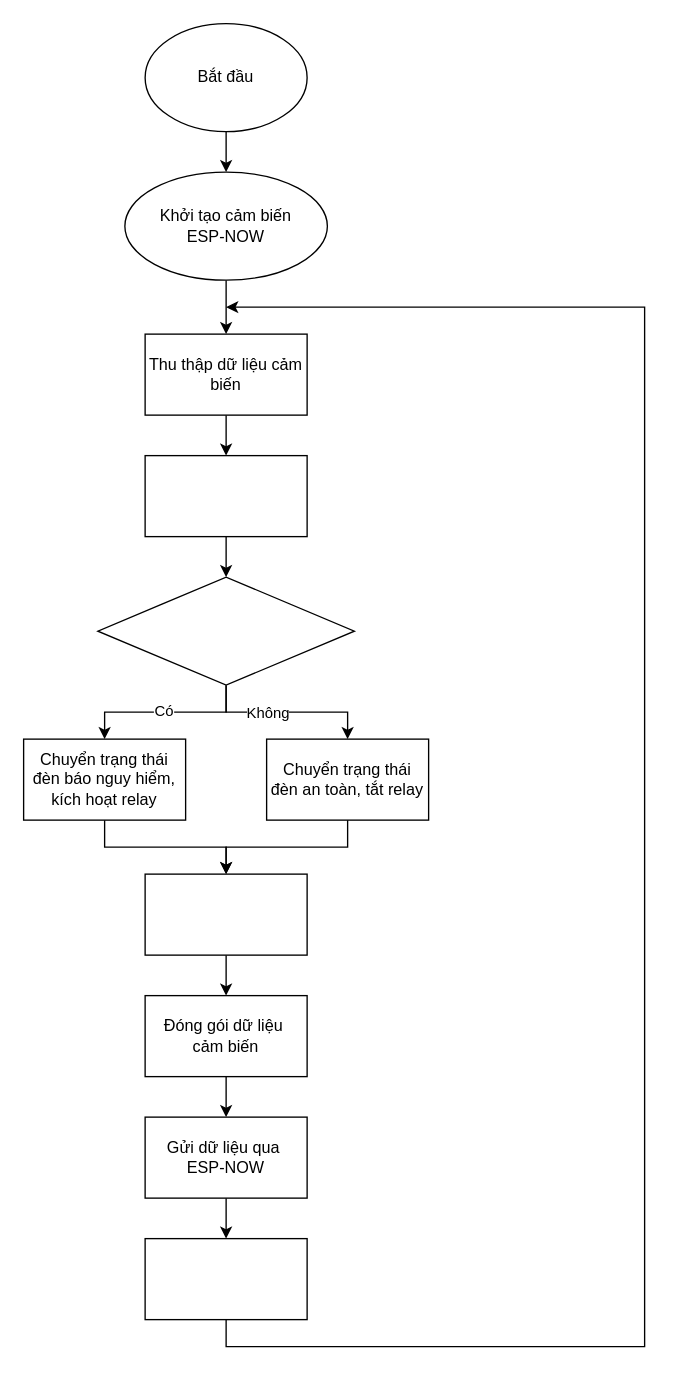
Some shapes in this 679 by 1381 pixel diagram are drawn without their labels. The centre of each missing label's shape, as x and y in pixels:
Lắng nghe thông báo gửi từ Gateway: [225,914]
Vượt ngưỡng?: [225,630]
Xử lý và kiểm tra điều kiện: [225,495]
Đợi 2 giây, quay trở lại chờ Gateway: [225,1278]
